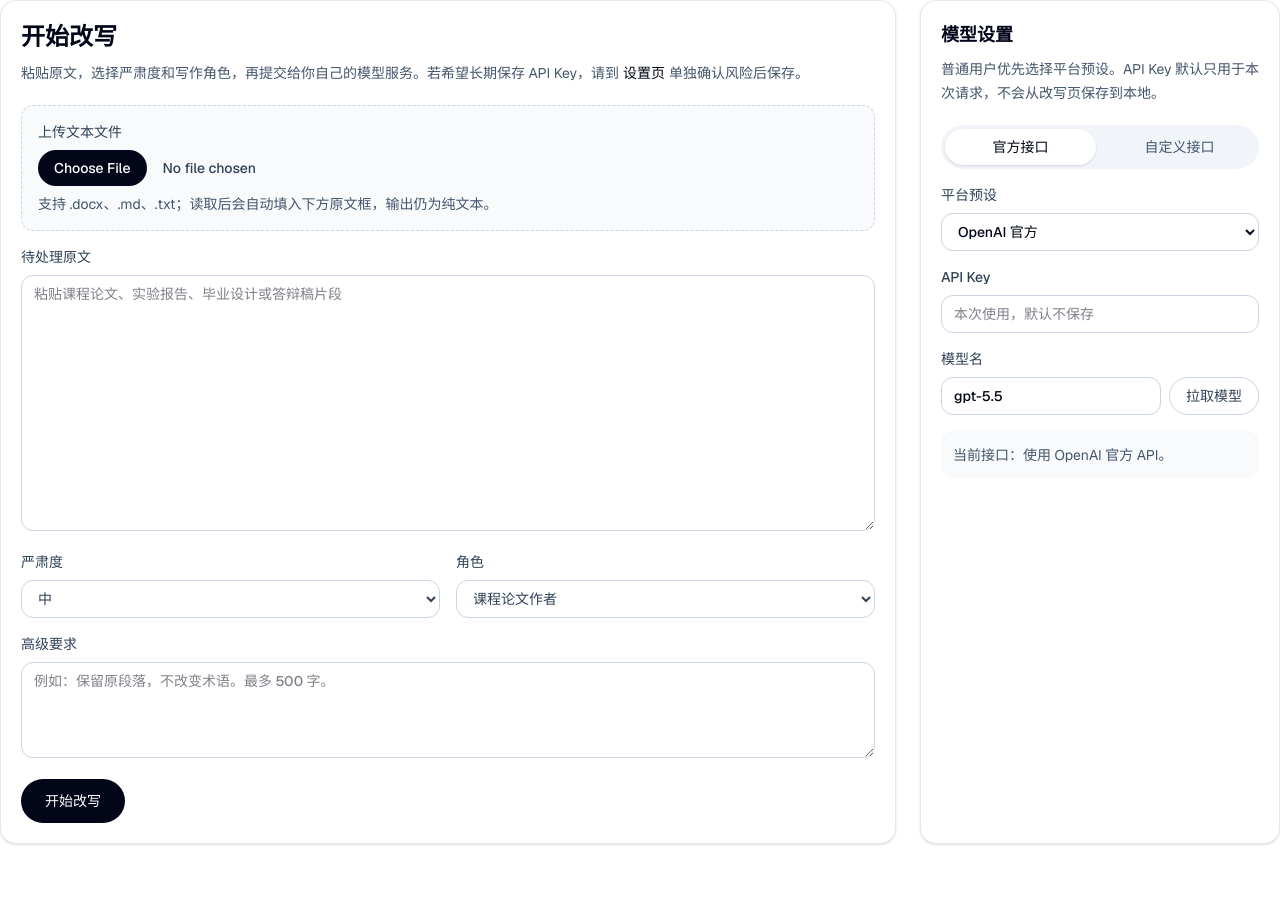
Scenario: RewriteForm › requires Base URL before submitting custom interface requests
Type "这是原文。" into the text box labelled "待处理原文". click: (448, 403)
box: x1=21 y1=275 x2=875 y2=531
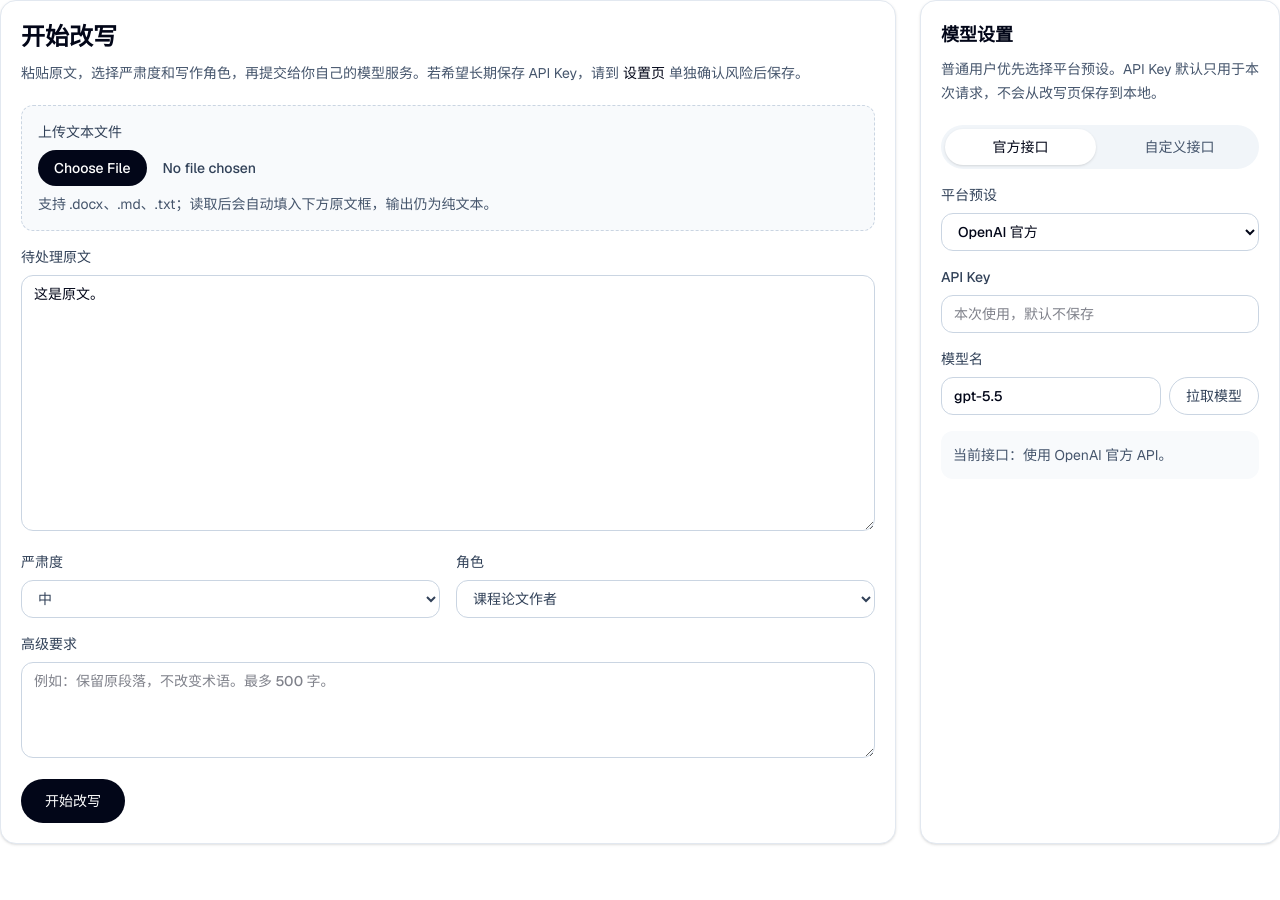
Click the button "自定义接口". click: (1180, 147)
box: x1=1104 y1=129 x2=1255 y2=165
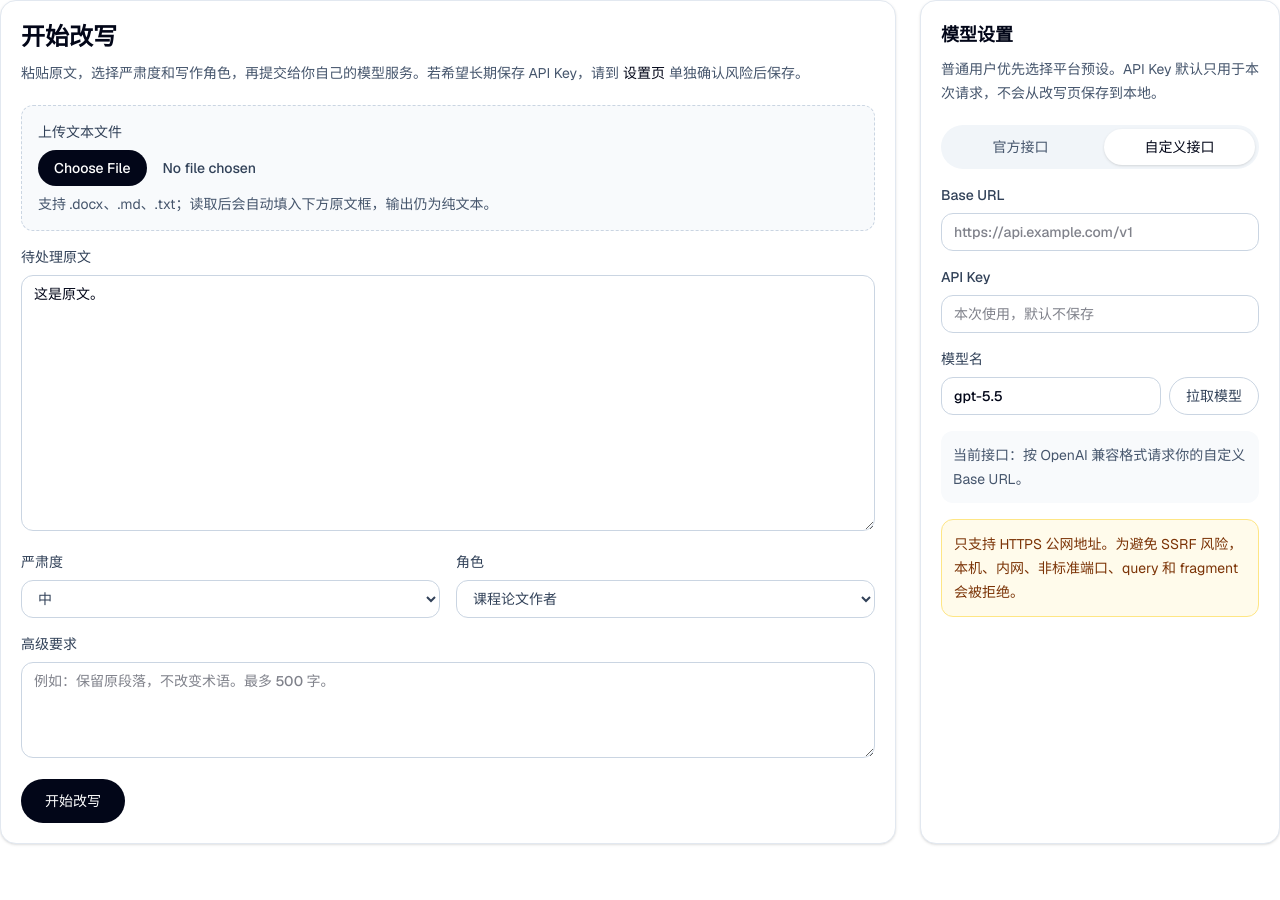
Click the button "开始改写". click: (73, 801)
box: x1=21 y1=779 x2=125 y2=823
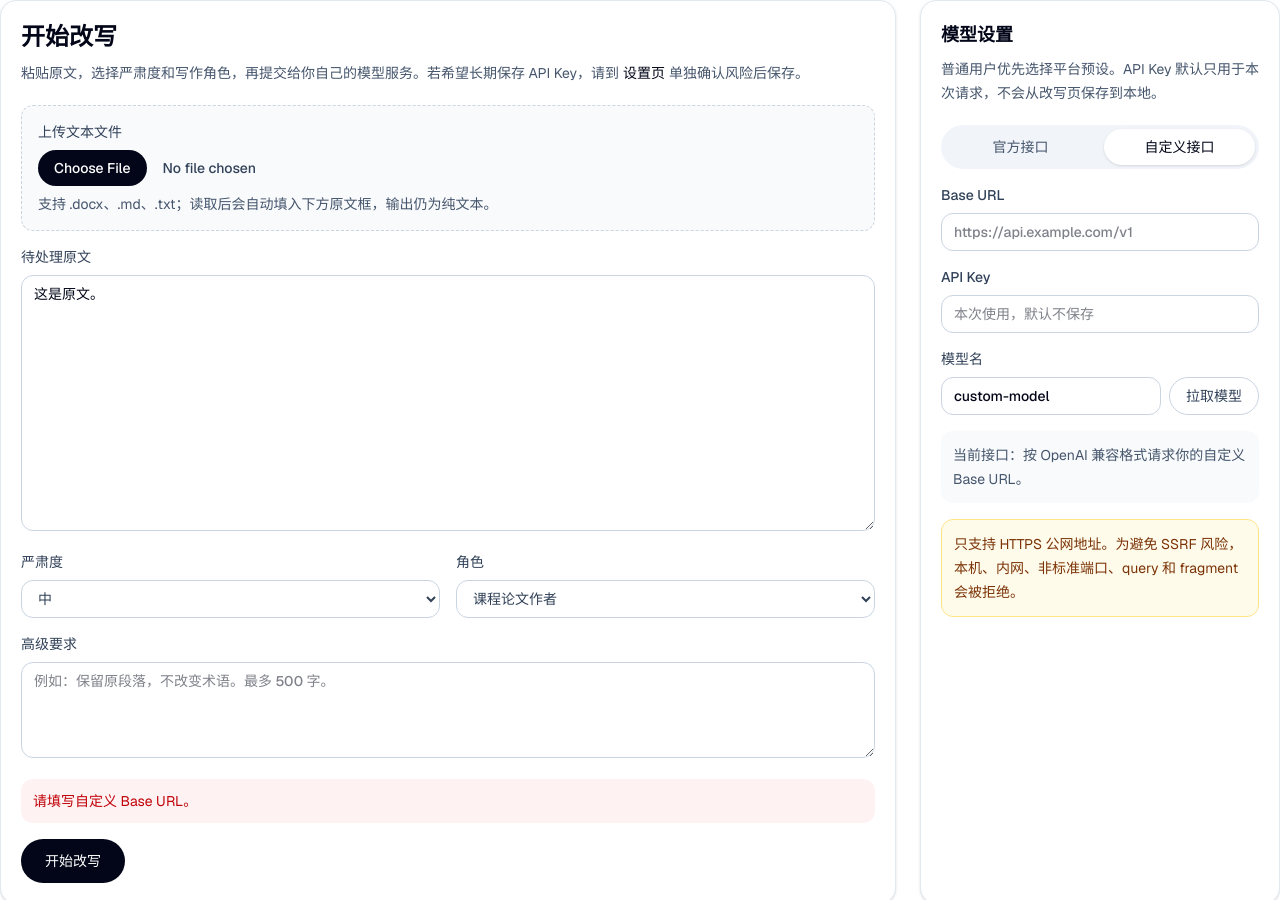
Expected: the text "请填写自定义 Base URL。" is shown, x1=21 y1=779 x2=875 y2=823
